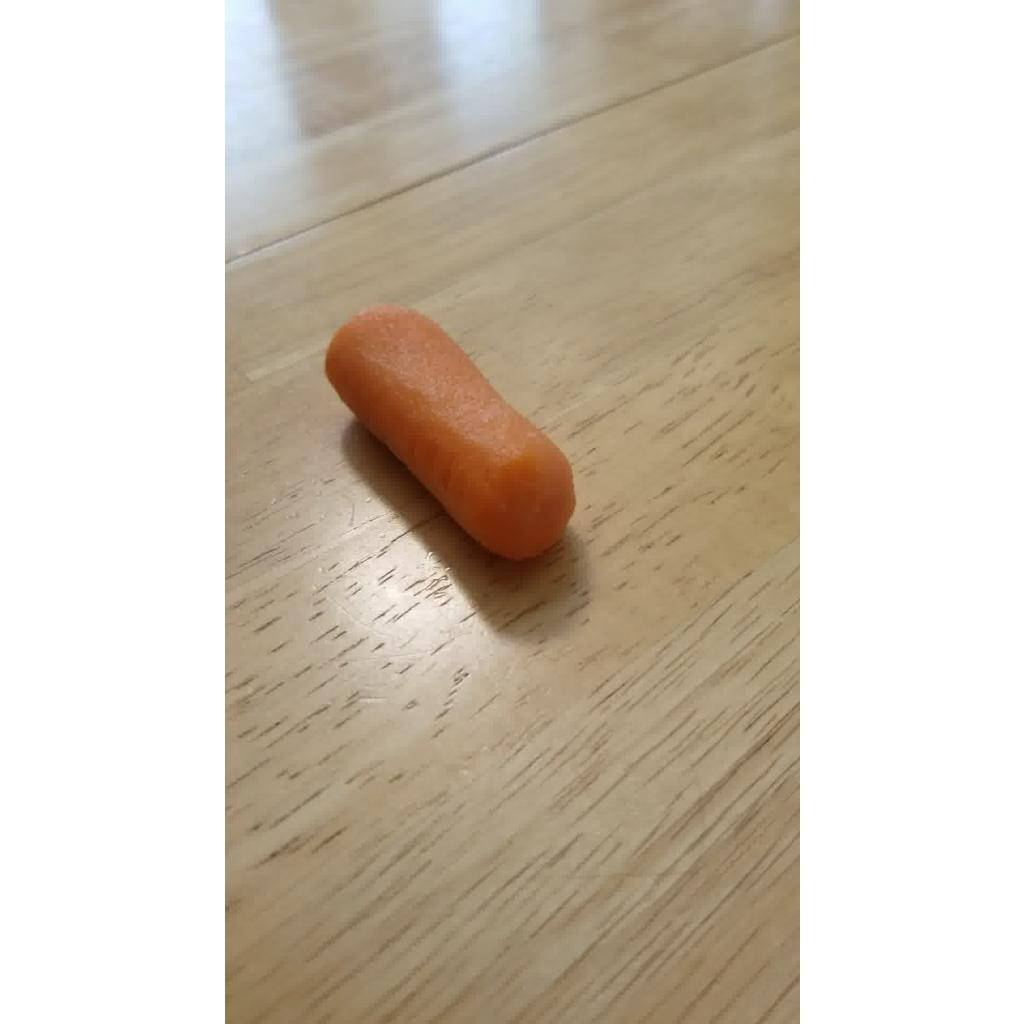carrot: (324, 306, 574, 560)
